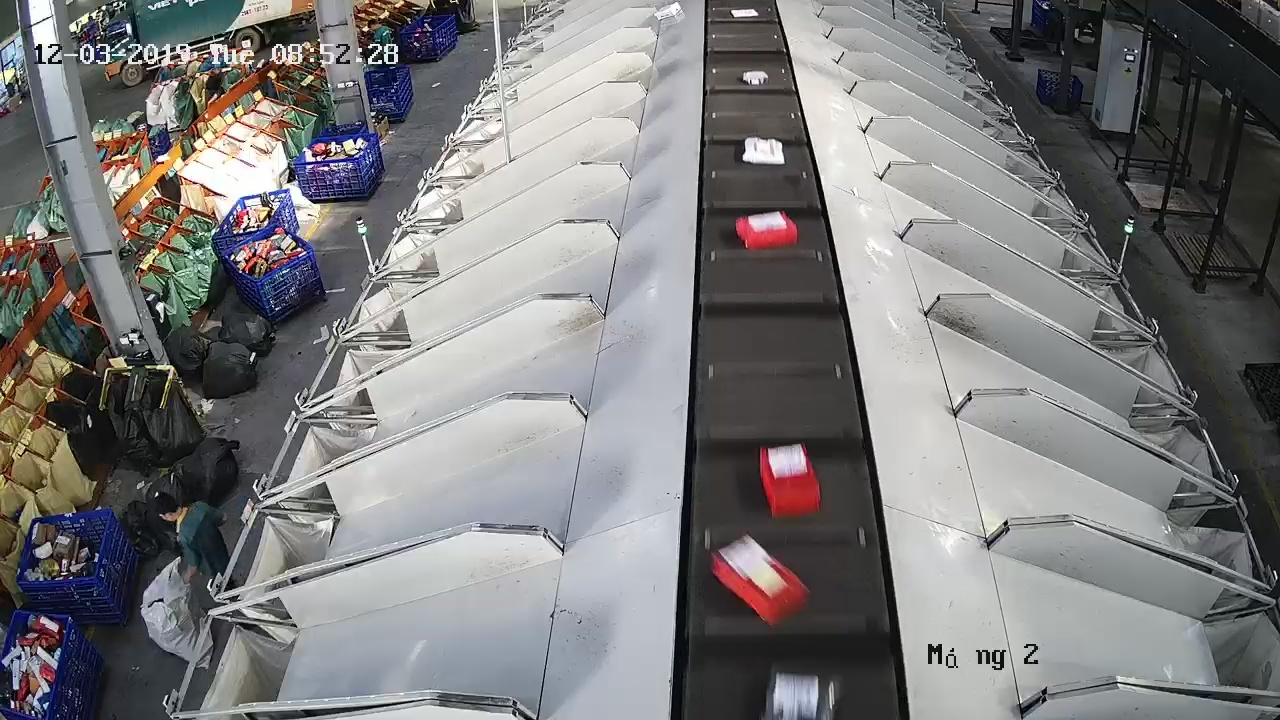parcel: (710, 531, 811, 630), (758, 440, 823, 520), (733, 208, 800, 252), (740, 135, 788, 167)
